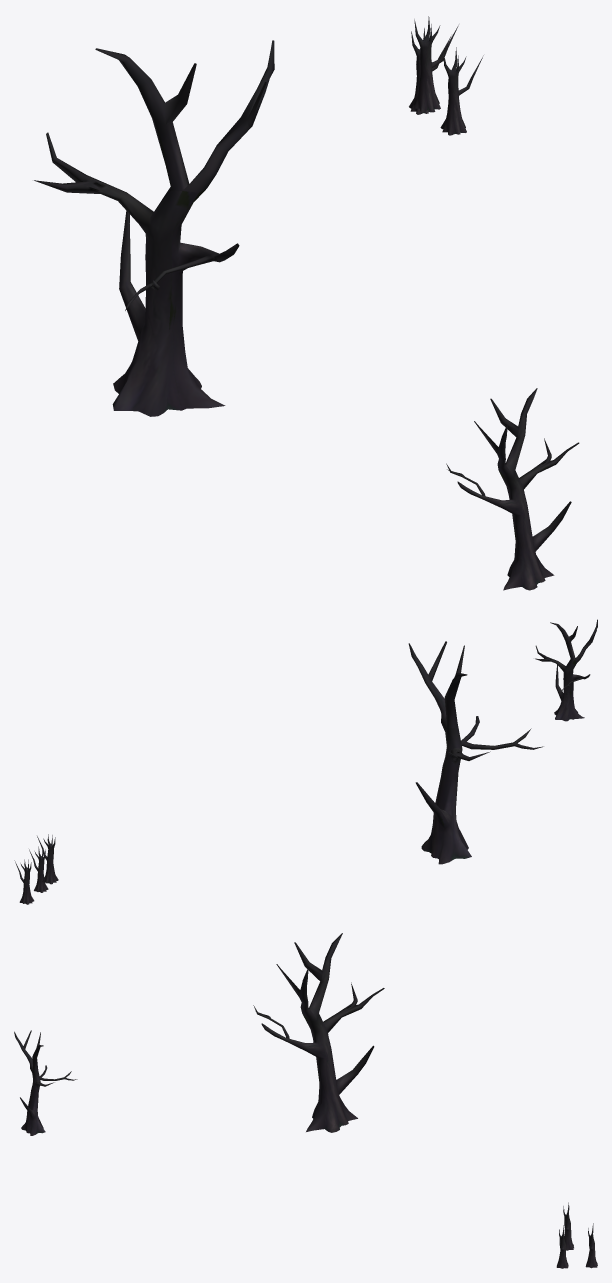
Rendered from Area12_29.fbx.
The picture shows the model from 3 angles, top to bottom: view 1: azimuth 30°, elevation 25°; view 2: azimuth 150°, elevation 25°; view 3: azimuth 270°, elevation 25°; orthographic projection. The views are drawn at different scales.
Visible parts, largest first — view 1: Area12_29; view 2: Area12_29; view 3: Area12_29.
Boxes of the visible parts, bbox=[...] form: Area12_29: bbox=[34, 16, 579, 590]; Area12_29: bbox=[14, 619, 597, 904]; Area12_29: bbox=[14, 933, 597, 1268].
Bounding box in the file's own units: 2467 × 1386 × 3755.
